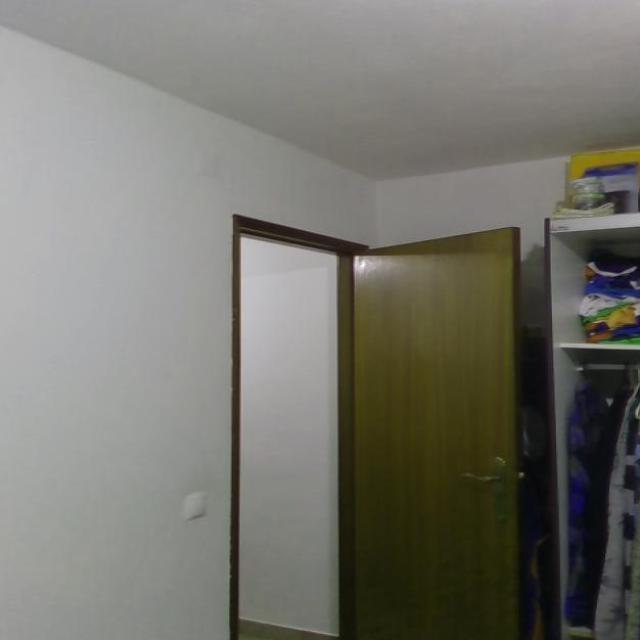door: (344, 223, 529, 640)
